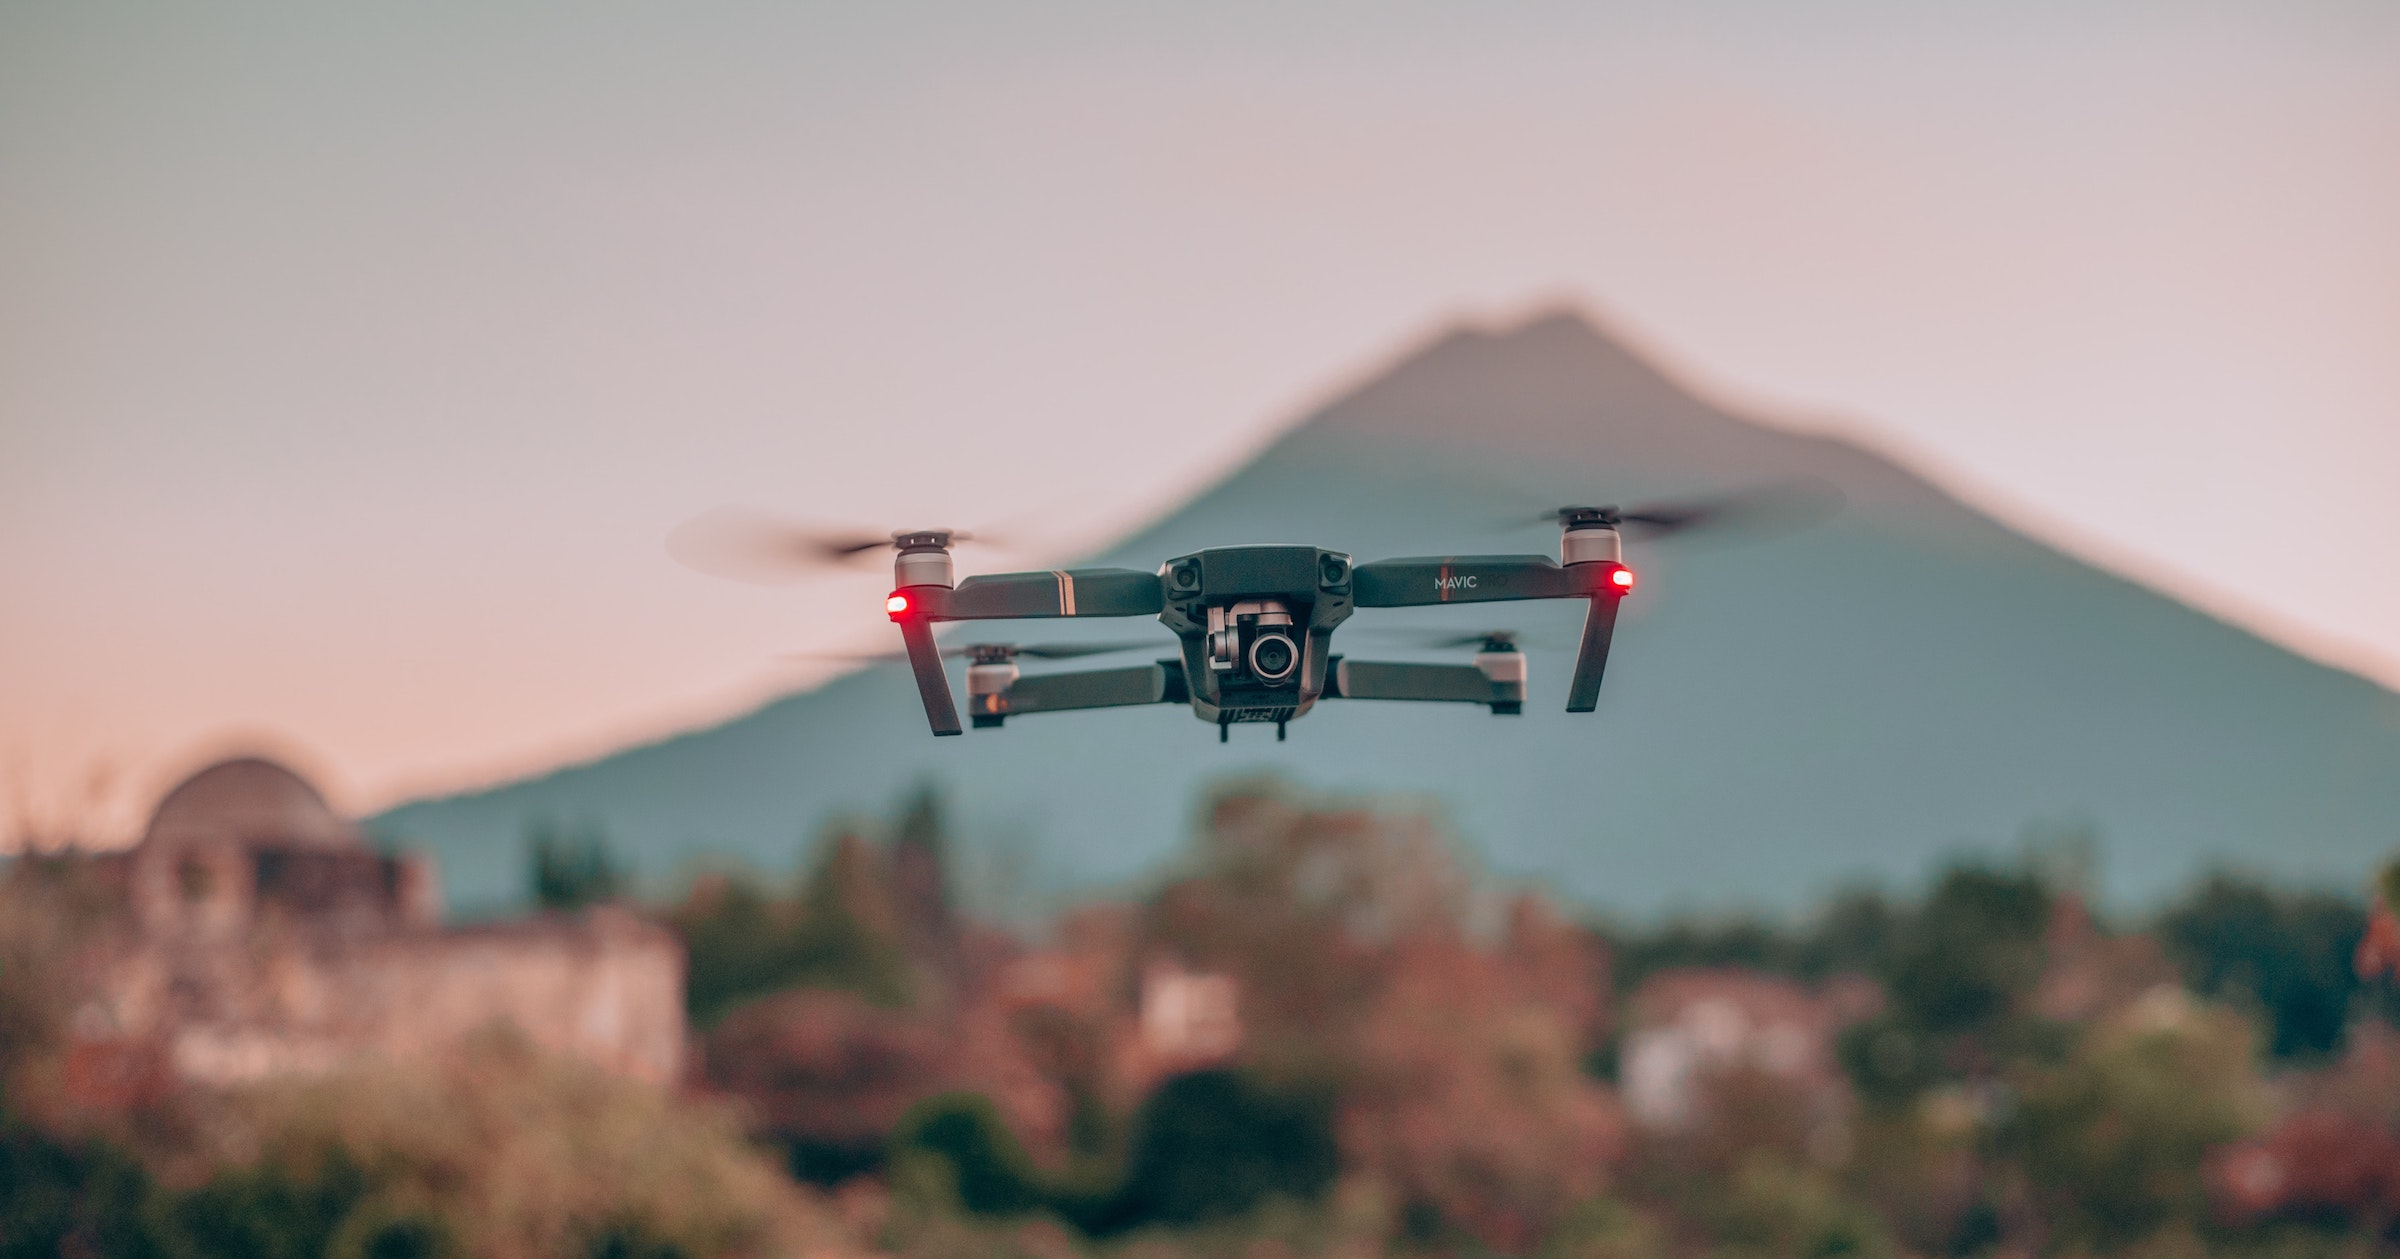drone: (706, 460, 1806, 741)
